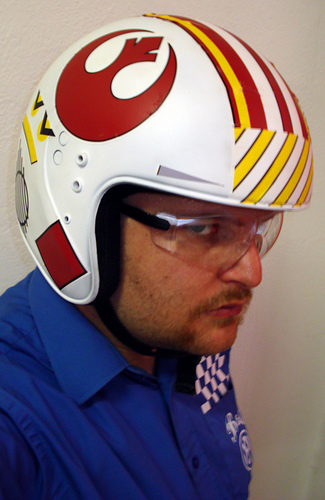helmet: (1, 17, 323, 294)
